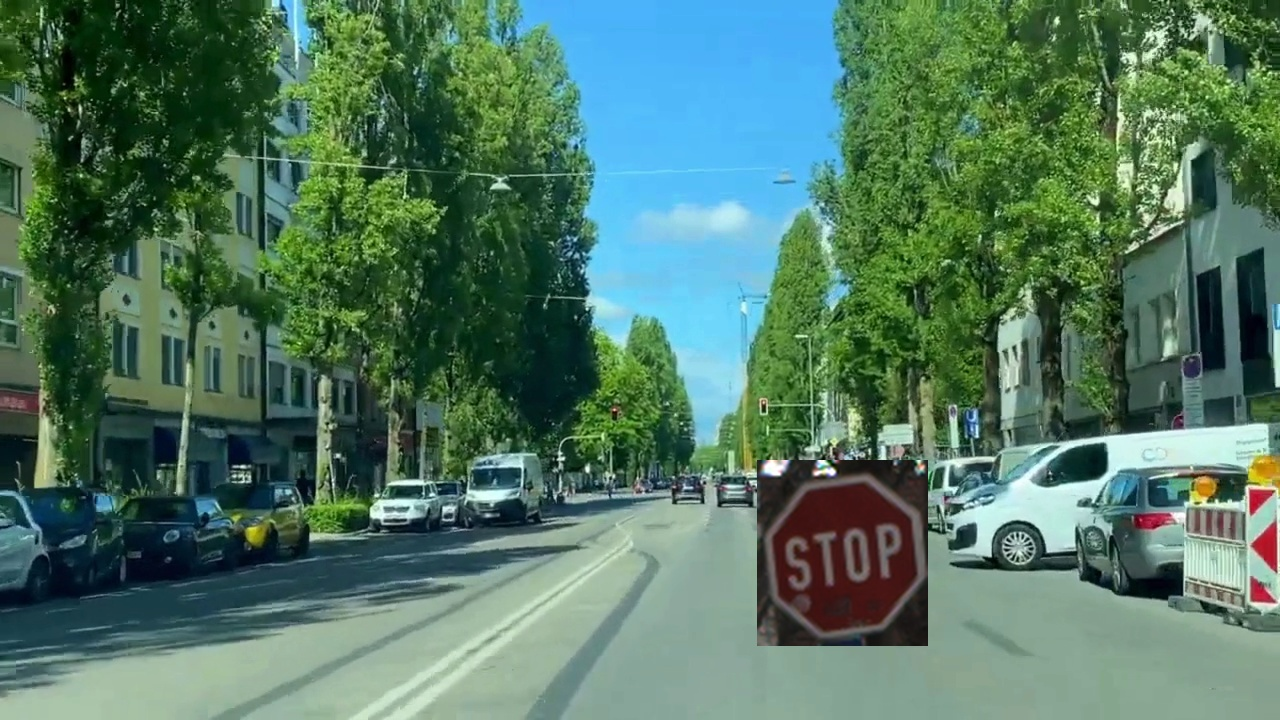Stop: (757, 460, 928, 646)
